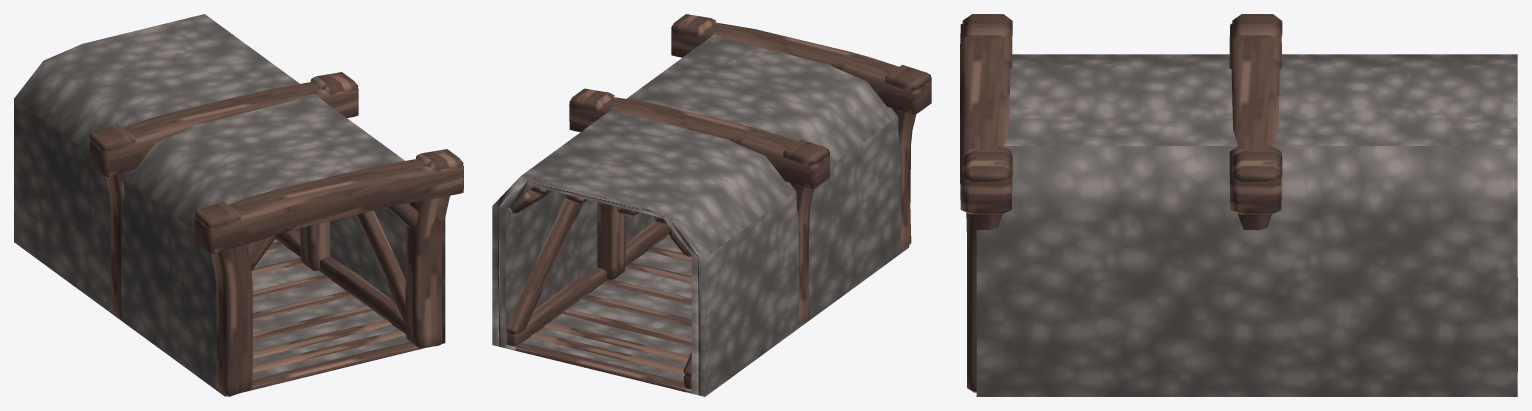
Rendered from SM_mine_module_06.glb.
3 renders of one model, left to right at view 1: azimuth 30°, elevation 25°; view 2: azimuth 150°, elevation 25°; view 3: azimuth 270°, elevation 25°, orthographic. The views are drawn at different scales.
Visible parts, largest first — view 1: SM_mine_module_06; view 2: SM_mine_module_06; view 3: SM_mine_module_06.
Boxes of the visible parts, x1,y1,x2,y2 form: SM_mine_module_06: (14, 14, 463, 396); SM_mine_module_06: (492, 14, 931, 396); SM_mine_module_06: (960, 14, 1517, 396).
Bounding box in the file's own units: 7.36 × 5.15 × 10.76.
Materials: 2 (2 with a texture image).
